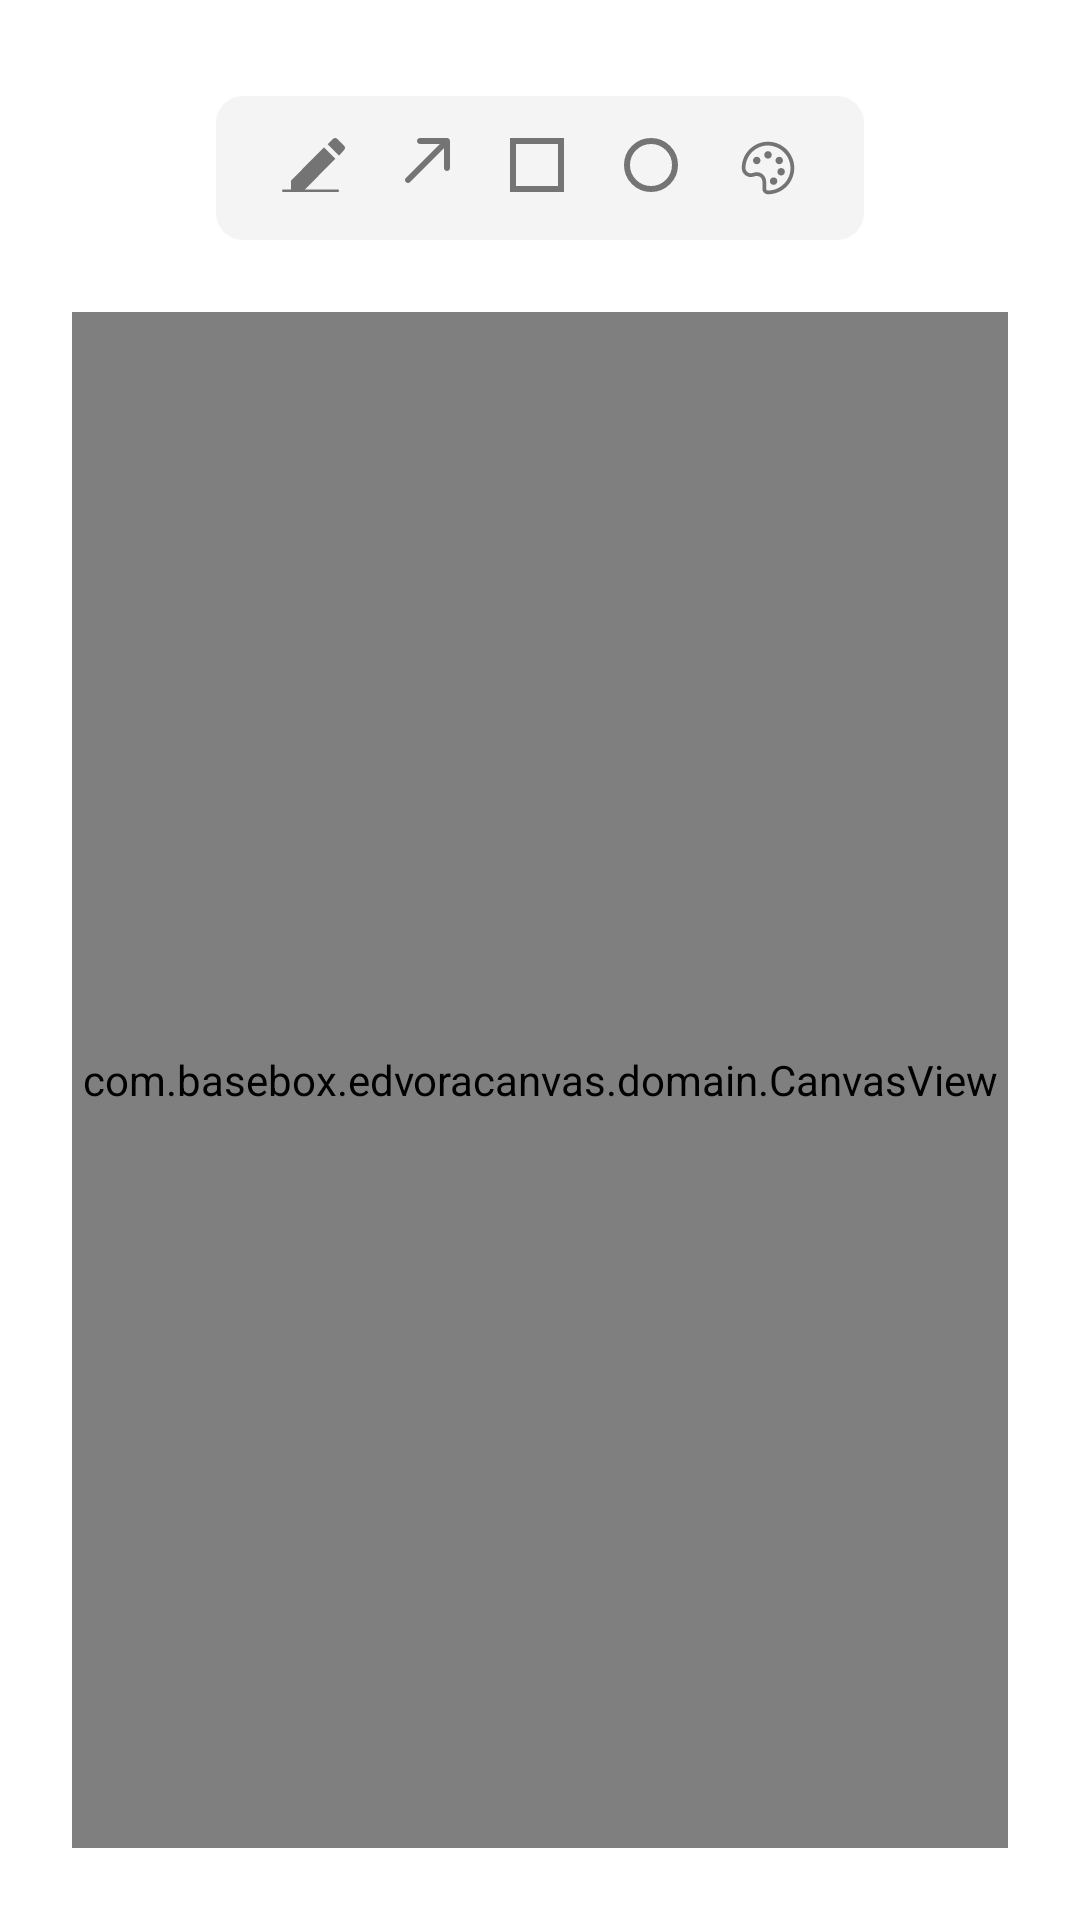

Where to tap for icons on this 1080*1920 app screen, as (x,y):
arrow: (427,160)
palette: (768,168)
pen: (313,165)
